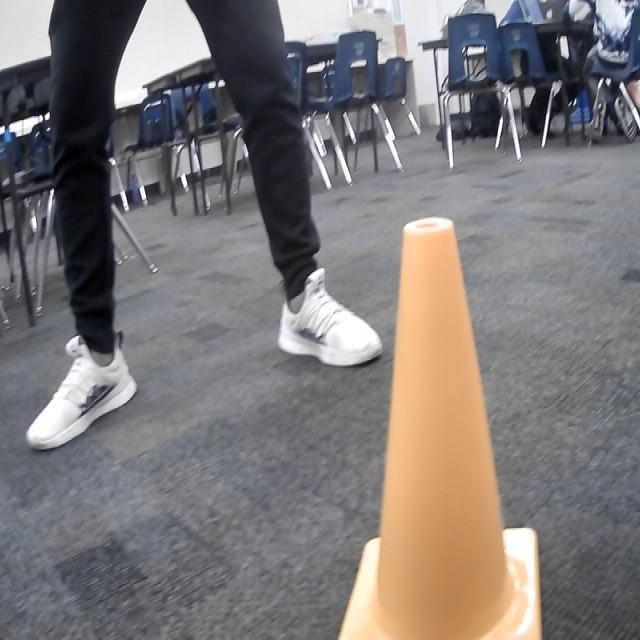cone: (333, 214, 553, 640)
